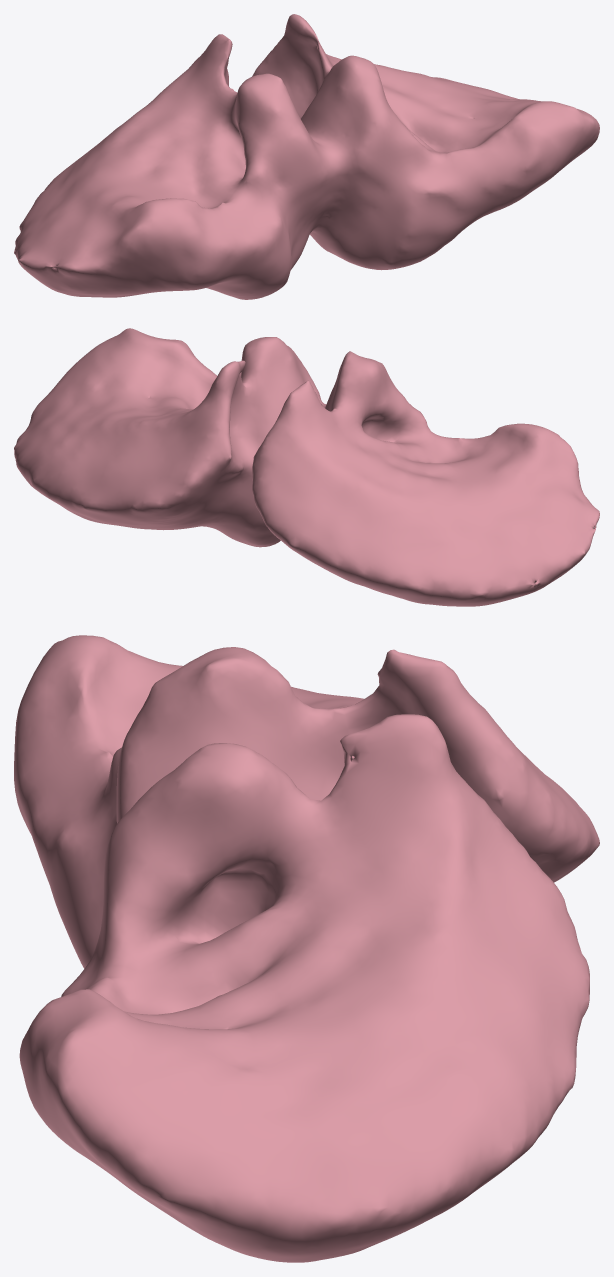
Rendered from cerebellum_lobules_posterior_inf.glb.
3 renders of one model, top to bottom at view 1: azimuth 30°, elevation 25°; view 2: azimuth 150°, elevation 25°; view 3: azimuth 270°, elevation 25°, orthographic. The views are drawn at different scales.
Parts seen in each view (by area): view 1: Lobulillos Posteriores Inferiores (VIIb - IX); view 2: Lobulillos Posteriores Inferiores (VIIb - IX); view 3: Lobulillos Posteriores Inferiores (VIIb - IX).
Boxes of the visible parts, x1=… form: Lobulillos Posteriores Inferiores (VIIb - IX): x1=14, y1=14, x2=599, y2=299; Lobulillos Posteriores Inferiores (VIIb - IX): x1=14, y1=328, x2=599, y2=606; Lobulillos Posteriores Inferiores (VIIb - IX): x1=14, y1=635, x2=599, y2=1262.
Bounding box in the file's own units: 3.38 × 1.27 × 1.58.
